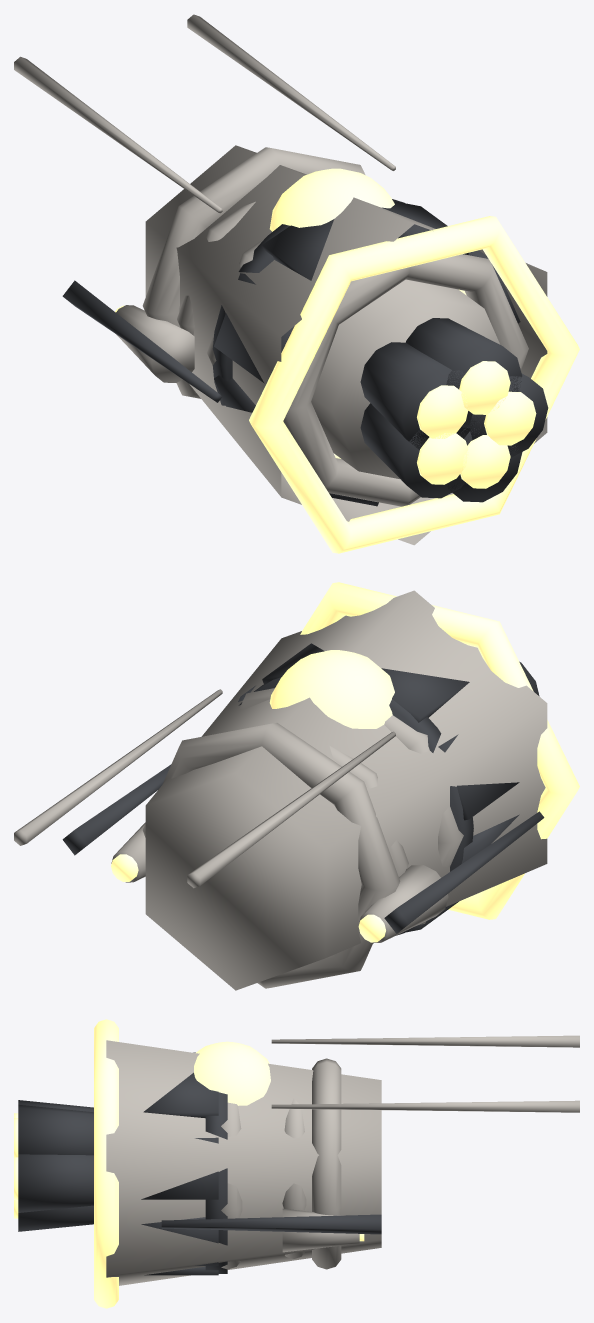
File: sentinel.glb
The picture shows the model from 3 angles, top to bottom: view 1: azimuth 30°, elevation 25°; view 2: azimuth 150°, elevation 25°; view 3: azimuth 270°, elevation 25°; orthographic projection. The views are drawn at different scales.
Parts seen in each view (by area): view 1: sentinel_head, sentinel_seg, sentinel_tail, sentinel_node; view 2: sentinel_head, sentinel_seg, sentinel_node, sentinel_tail; view 3: sentinel_head, sentinel_seg, sentinel_tail, sentinel_node.
Boxes of the visible parts, box(x1,y1,x2,y2) form: sentinel_head: box(14, 14, 579, 553); sentinel_seg: box(115, 147, 528, 506); sentinel_tail: box(177, 201, 548, 502); sentinel_node: box(269, 168, 394, 231); sentinel_head: box(14, 582, 579, 990); sentinel_seg: box(111, 643, 519, 988); sentinel_node: box(269, 650, 394, 728); sentinel_tail: box(329, 661, 539, 943); sentinel_head: box(94, 1019, 579, 1308); sentinel_seg: box(141, 1052, 364, 1275); sentinel_tail: box(14, 1098, 306, 1258); sentinel_node: box(194, 1041, 270, 1105).
Size of the model in its own units: 1.4 by 1.24 by 2.57.
